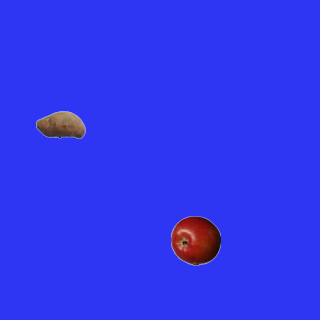Apple Braeburn: (170, 215, 220, 265)
Potato Sweet: (35, 99, 85, 149)
